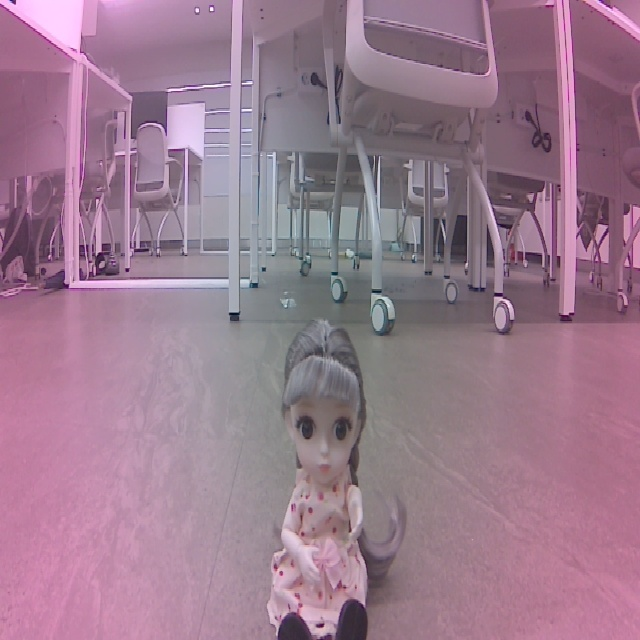장애물: (256, 315, 410, 640)
